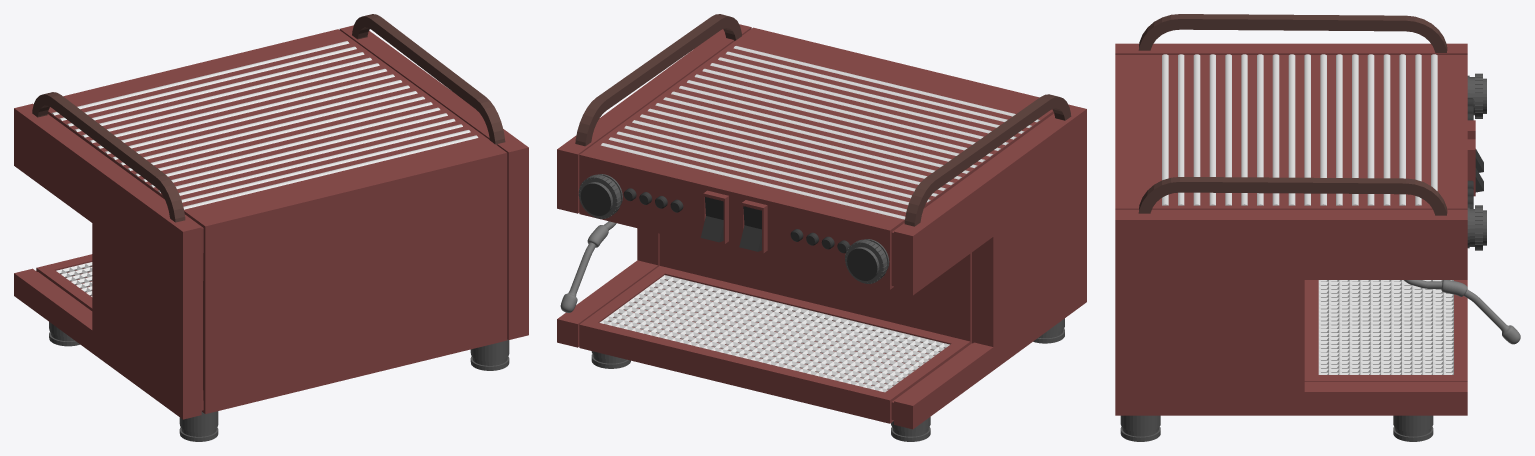
The model's file is CoffeeMashine.fbx.
The picture shows the model from 3 angles, left to right: view 1: azimuth 30°, elevation 25°; view 2: azimuth 150°, elevation 25°; view 3: azimuth 270°, elevation 25°; orthographic projection. The views are drawn at different scales.
Parts seen in each view (by area): view 1: Cube.007, Circle.002, Plane.001, Cylinder.003, Cube.010; view 2: Cube.007, Circle.002, Cube.010, Plane.001, Cylinder.003, Plane.005, Cube.022, Cube.021, Cylinder.011, Cylinder.018, Cube.023, Cylinder.019 (+3 smaller); view 3: Cube.007, Circle.002, Cube.010, Plane.001, Cylinder.003, Plane.005, Cylinder.011, Cylinder.018, Cube.022.
Boxes of the visible parts, box(x1,y1,x2,y2) form: Cube.007: box(14, 25, 528, 419); Circle.002: box(51, 41, 478, 209); Plane.001: box(32, 14, 505, 222); Cylinder.003: box(49, 322, 509, 441); Cube.010: box(56, 262, 92, 296); Cube.007: box(557, 24, 1086, 429); Circle.002: box(601, 46, 1039, 219); Cube.010: box(599, 275, 949, 392); Plane.001: box(575, 14, 1071, 226); Cylinder.003: box(591, 318, 1064, 441); Plane.005: box(560, 221, 616, 312); Cube.022: box(703, 190, 767, 253); Cube.021: box(700, 196, 723, 242); Cylinder.011: box(578, 174, 622, 218); Cylinder.018: box(845, 239, 889, 283); Cube.023: box(739, 206, 761, 251); Cylinder.019: box(847, 248, 877, 280); Cube.007: box(1115, 43, 1467, 415); Circle.002: box(1162, 54, 1437, 205); Cube.010: box(1318, 280, 1453, 374); Plane.001: box(1138, 14, 1447, 215); Cylinder.003: box(1120, 415, 1433, 441); Plane.005: box(1404, 280, 1520, 344); Cylinder.011: box(1467, 205, 1486, 250); Cylinder.018: box(1467, 73, 1486, 118); Cube.022: box(1467, 120, 1475, 196).
Bounding box in the file's own units: 0.9123 × 0.6263 × 0.8879.
